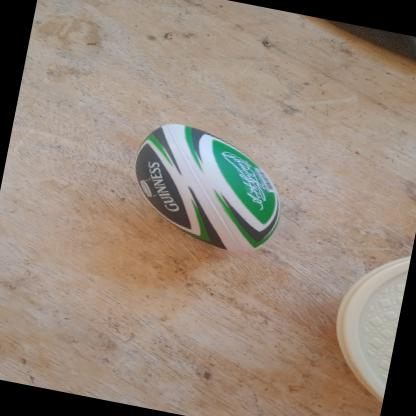Rugby: (112, 112, 308, 264)
